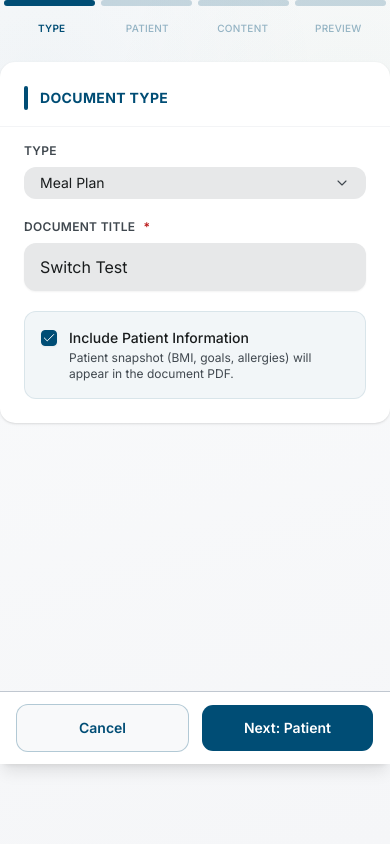
it: DocumentComposer user journeys › resets block structure when switching type (regression guard)
Click the dropdown: (72, 182) [24,167,366,199]
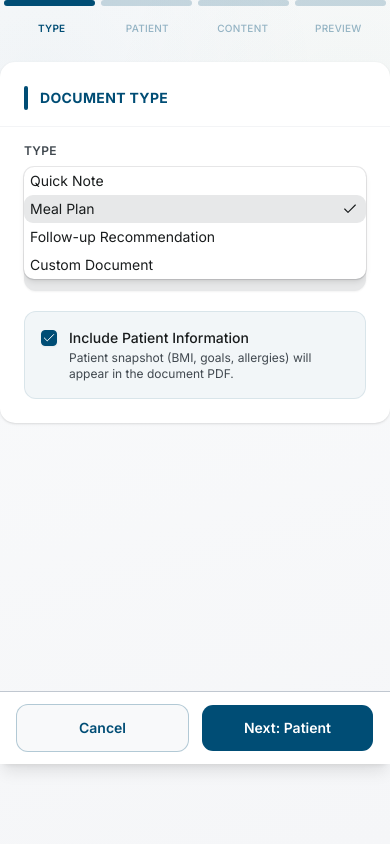
Click the option "Quick Note": (67, 180) [30,172,104,189]
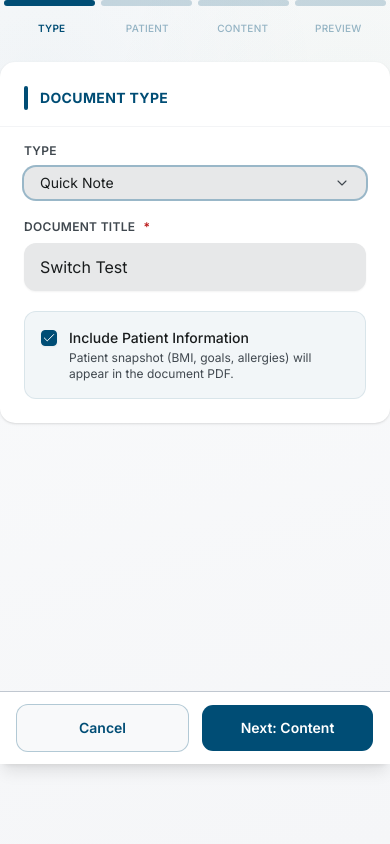
Click the button "Next: Content": (288, 728) [201,704,374,752]
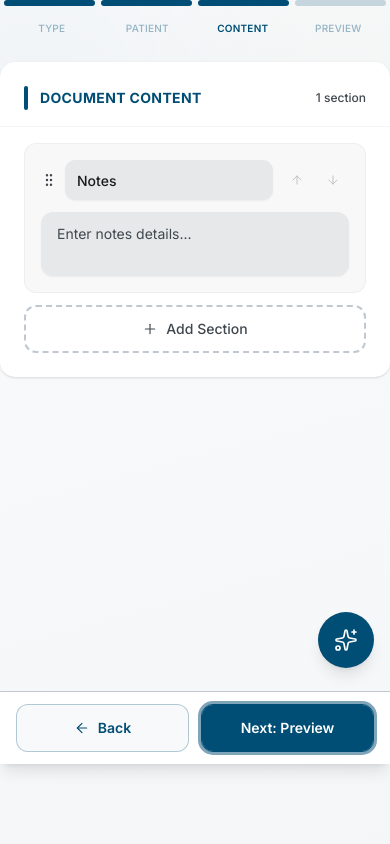
expect the field showing "Notes" is shown: met, box [65,160,273,200]
